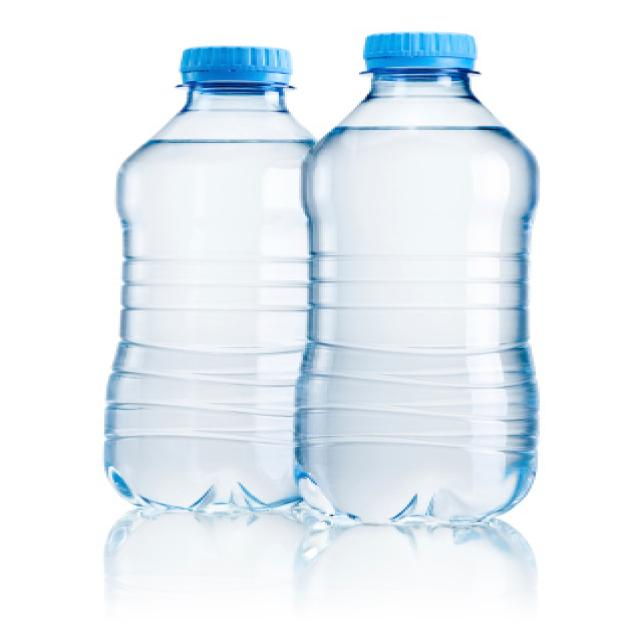bottle: (294, 32, 545, 537), (105, 44, 339, 510)
